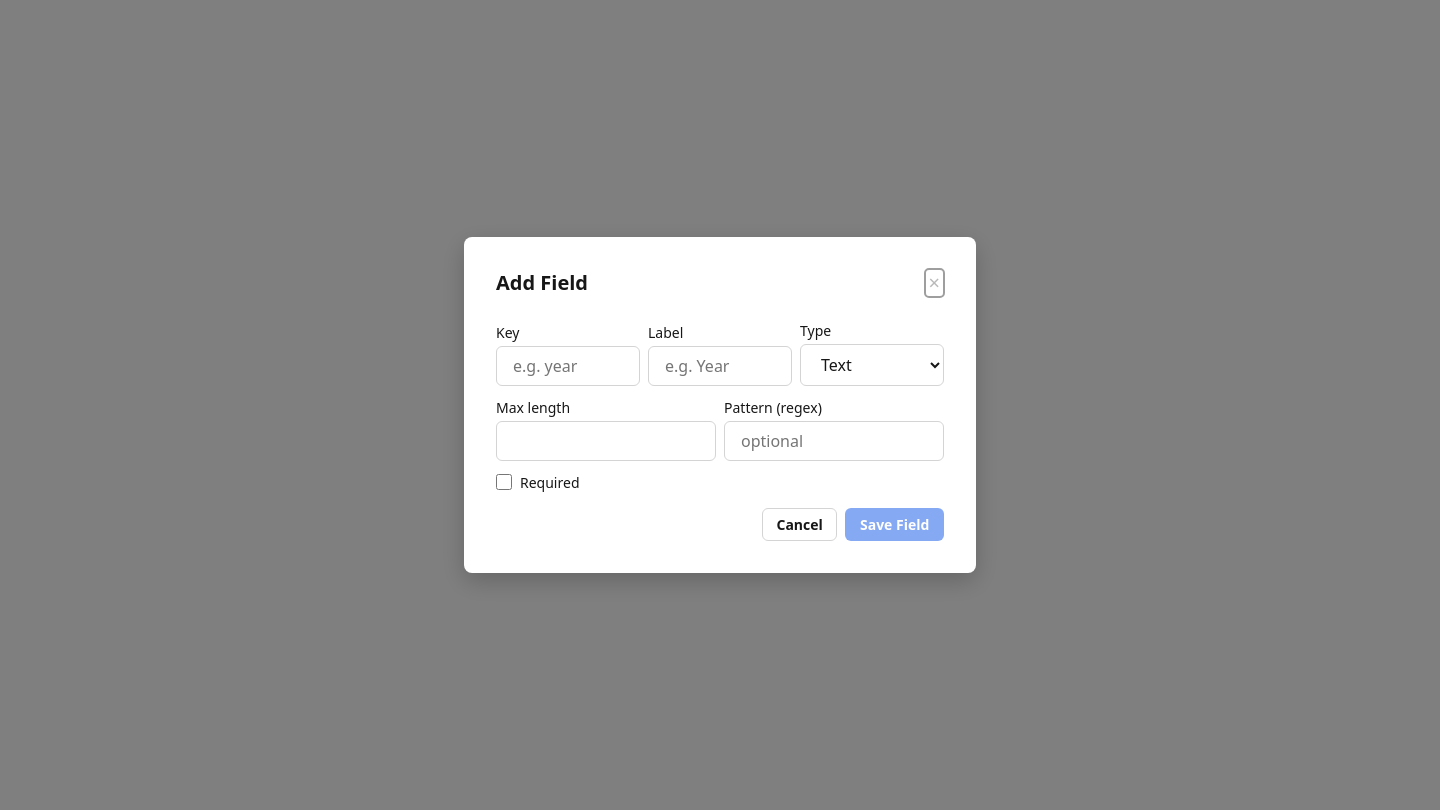
Test: MetadataFieldModal › rejects an invalid key
Type "Bad Key" into the field labelled "Key". click: (568, 366)
box: [496,346,640,386]
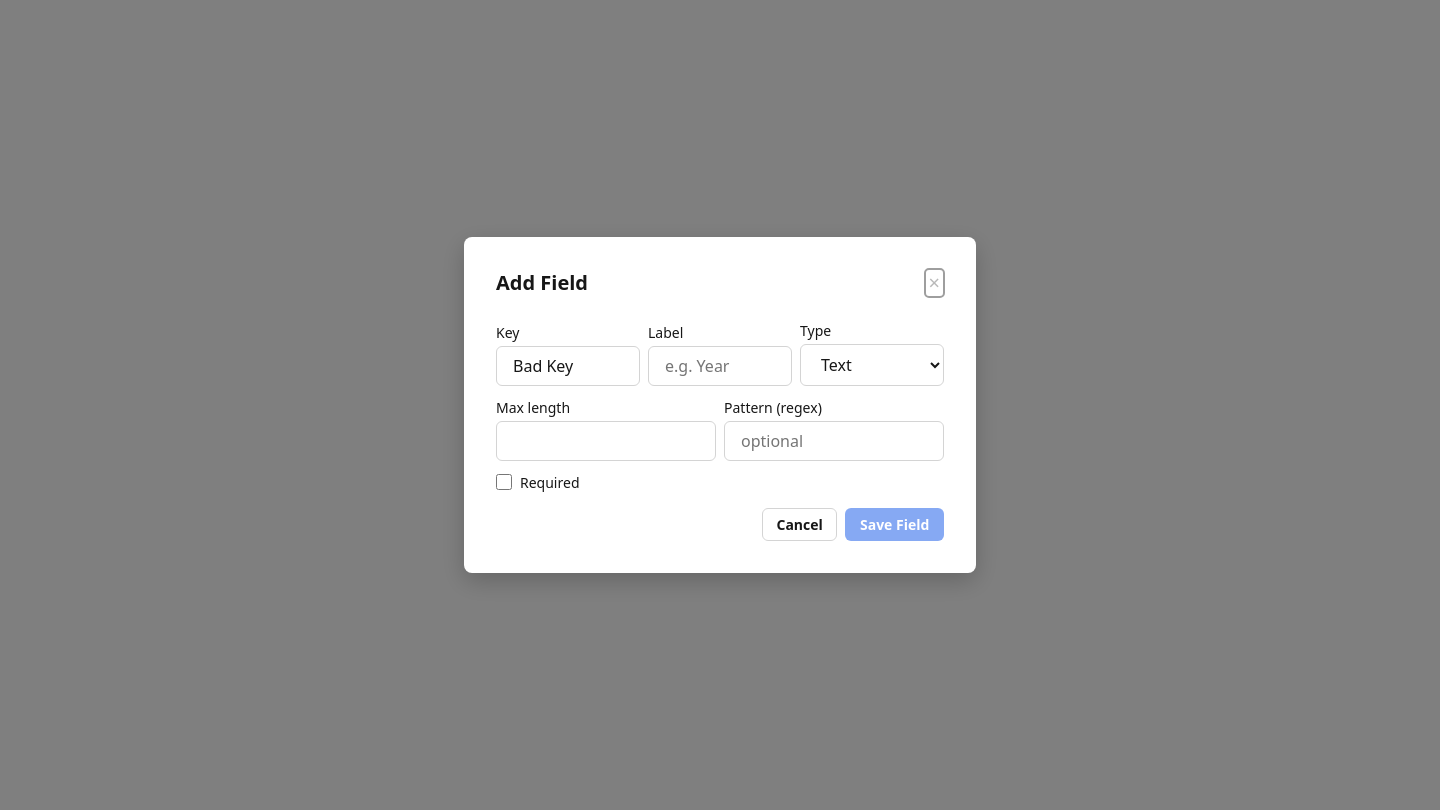
Type "Label" into the field labelled "Label". click: (720, 366)
box: [648,346,792,386]
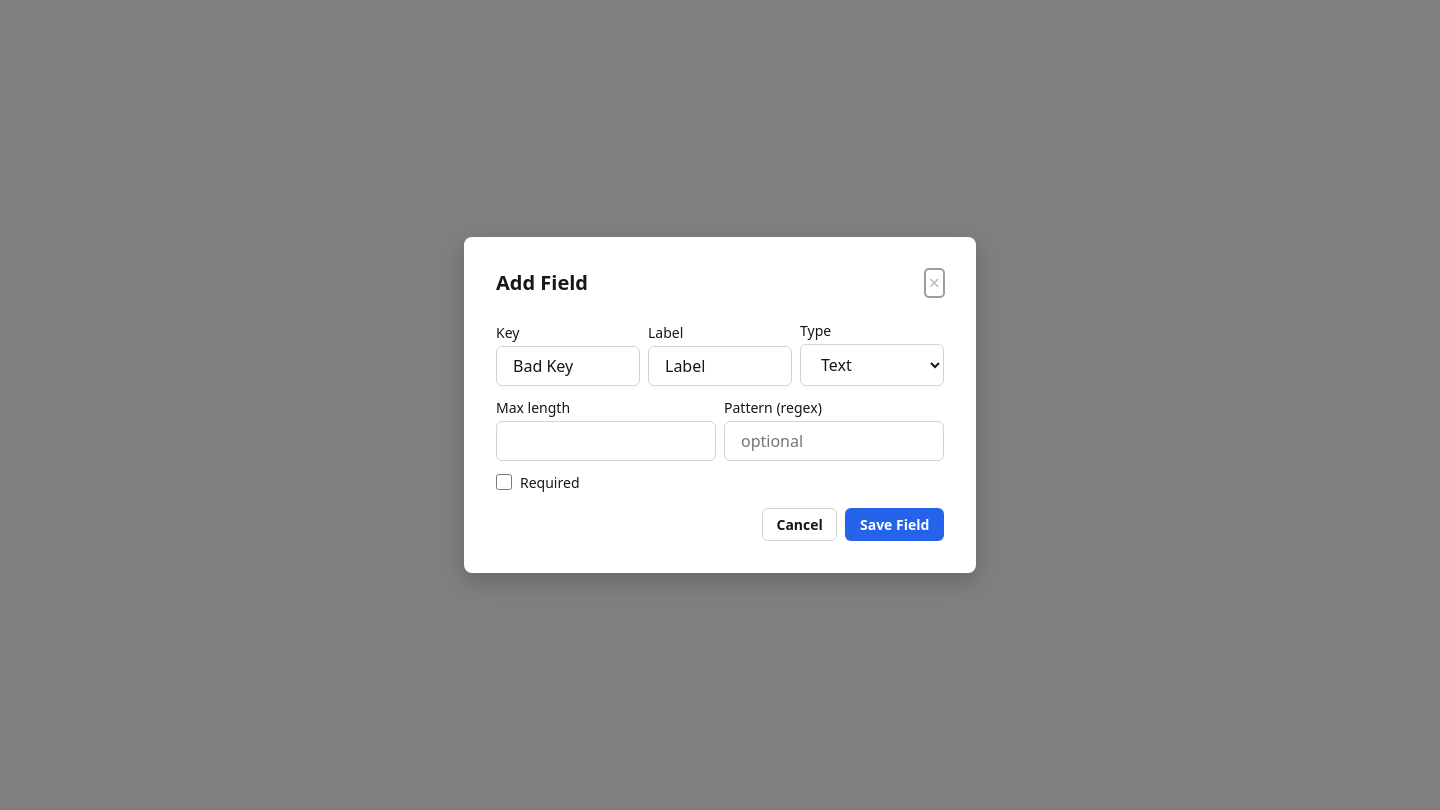
Click the button "Save Field". click: (895, 524)
box: [845,508,944,541]
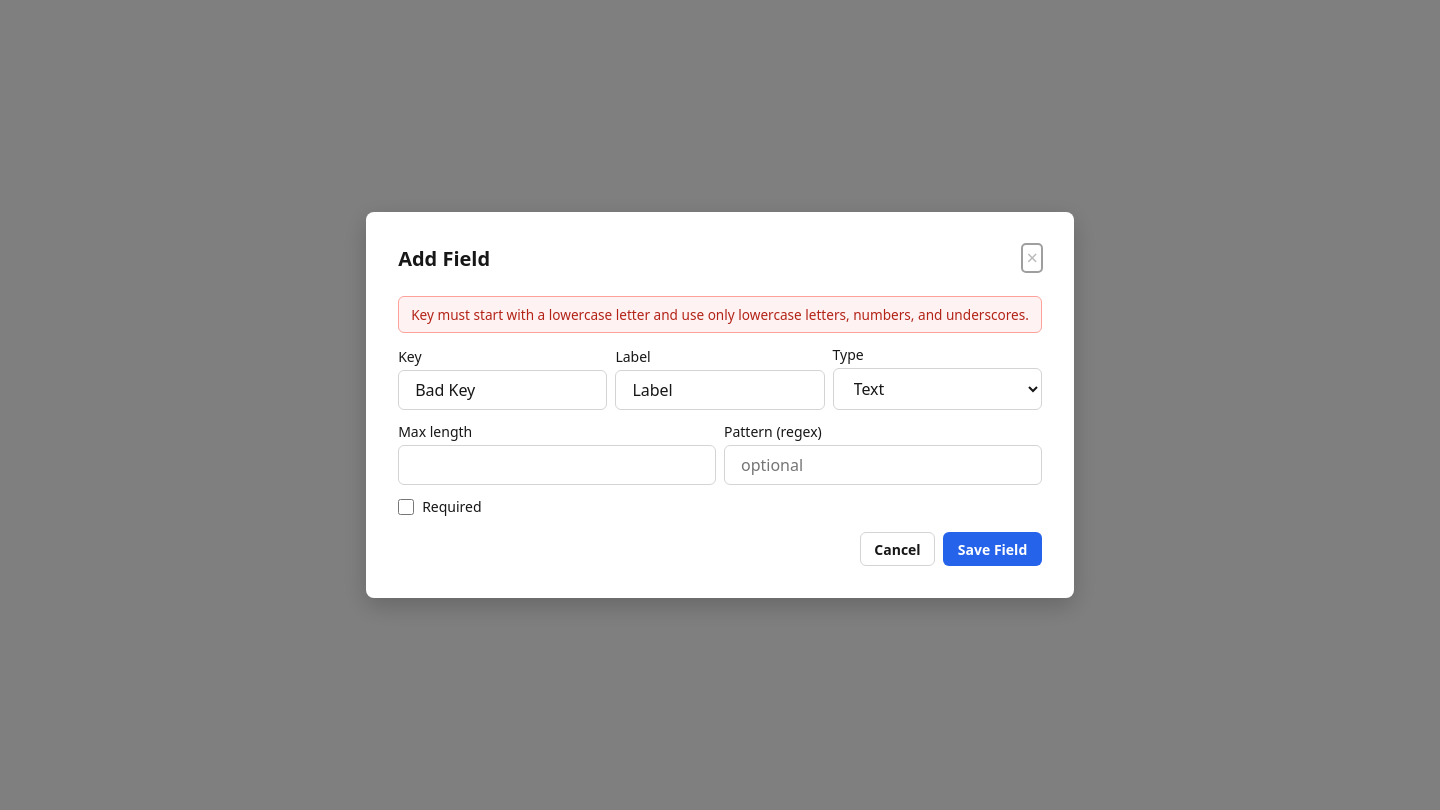
Check: the text "Key must start with" is shown, box [411,305,1029,324]
